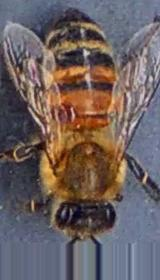varroa_mite: (46, 96, 78, 122)
